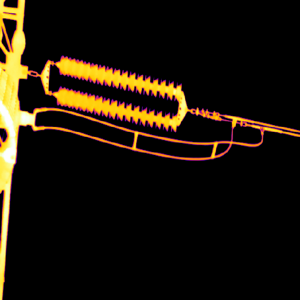insulator: (53, 53, 187, 129)
